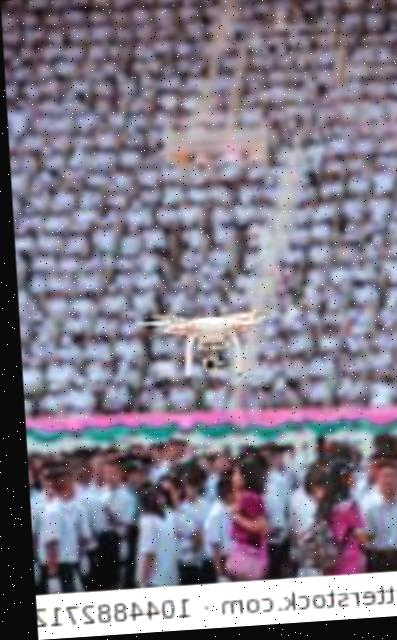drone: (118, 277, 277, 404)
